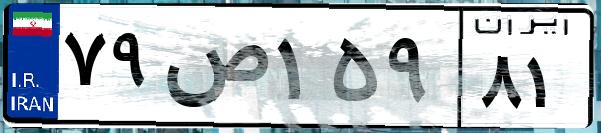1: (270, 28, 330, 110), (525, 38, 570, 115)
5: (330, 28, 385, 110)
7: (57, 26, 110, 100)
8: (475, 38, 525, 113)
9: (385, 28, 445, 110), (110, 28, 158, 98)
ص: (158, 20, 270, 120)
